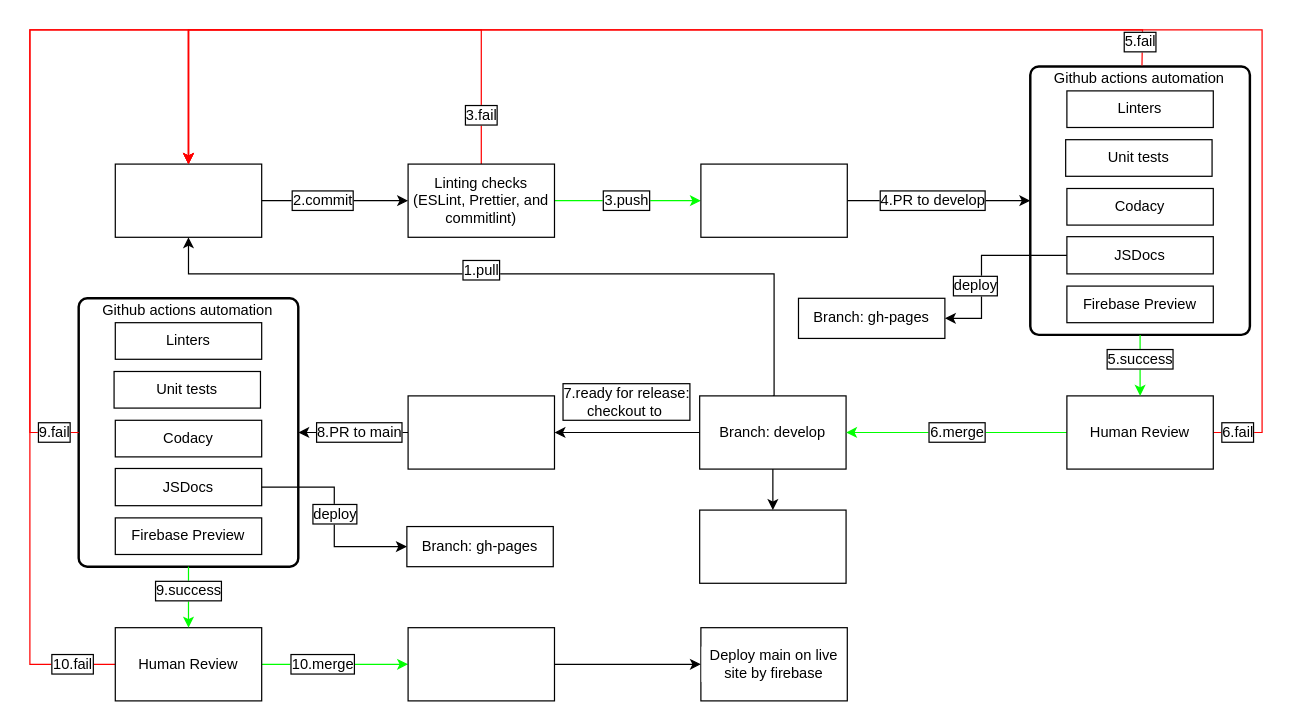
Image size: 1293x722. Some labels were removed from this diagram. Here are the shapes that lost their labels. From the top down, the centre of each, then its label:
At pixel 188 200: "Local machine (VScode IDE)".
At pixel 773 200: "Branch: current feature branch".
At pixel 480 432: "Branch: new release branch".
At pixel 772 546: "Deploy develop on dev site by firebase".
At pixel 480 663: "Branch: main".
